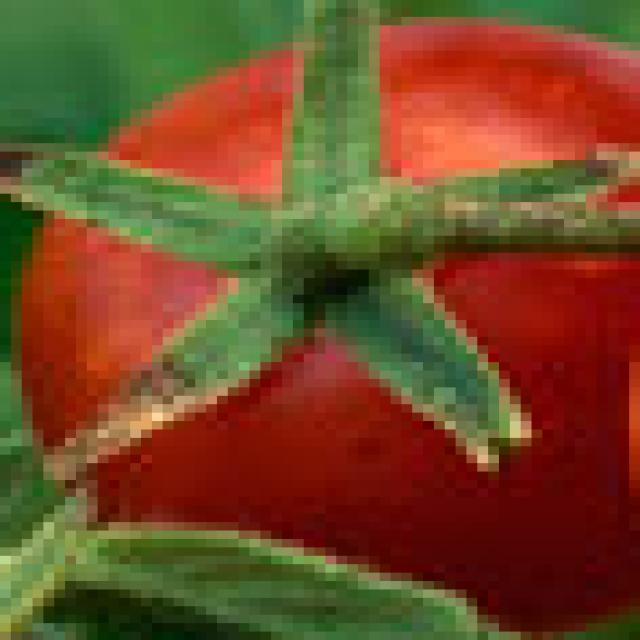Orange: (11, 0, 640, 640)
